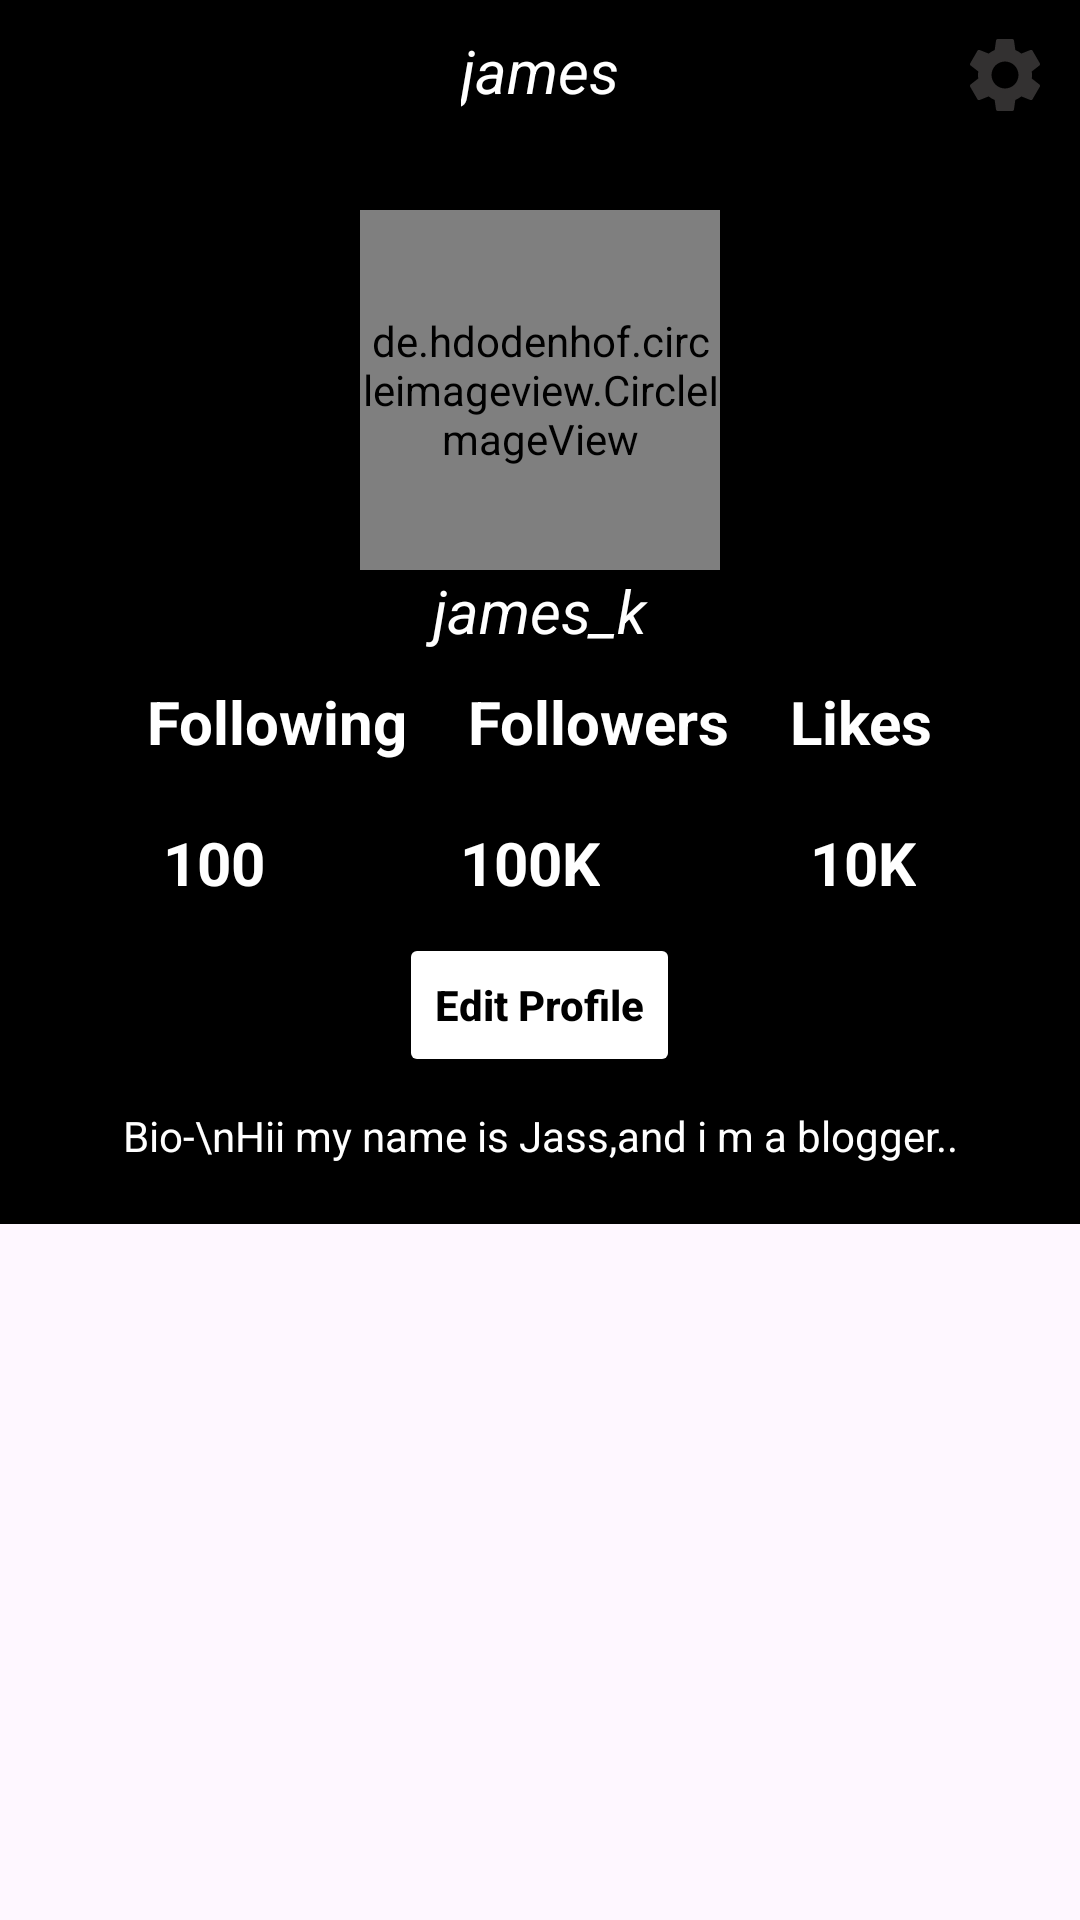

Named icons in this screenshot (1080px x 1920px) and their bounding boxes, (x1, y1, x2, y2):
settings: (970, 39, 1040, 111)
